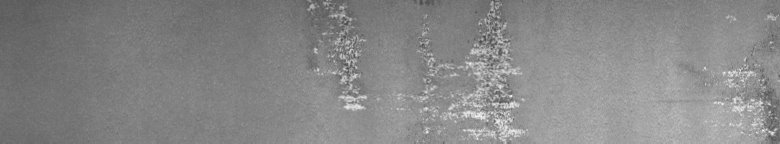hc: (703, 12, 776, 136)
